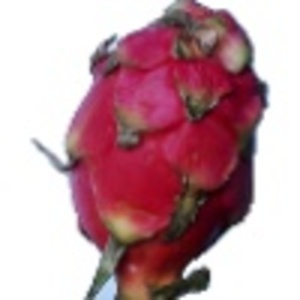pitaia: (34, 1, 272, 300)
